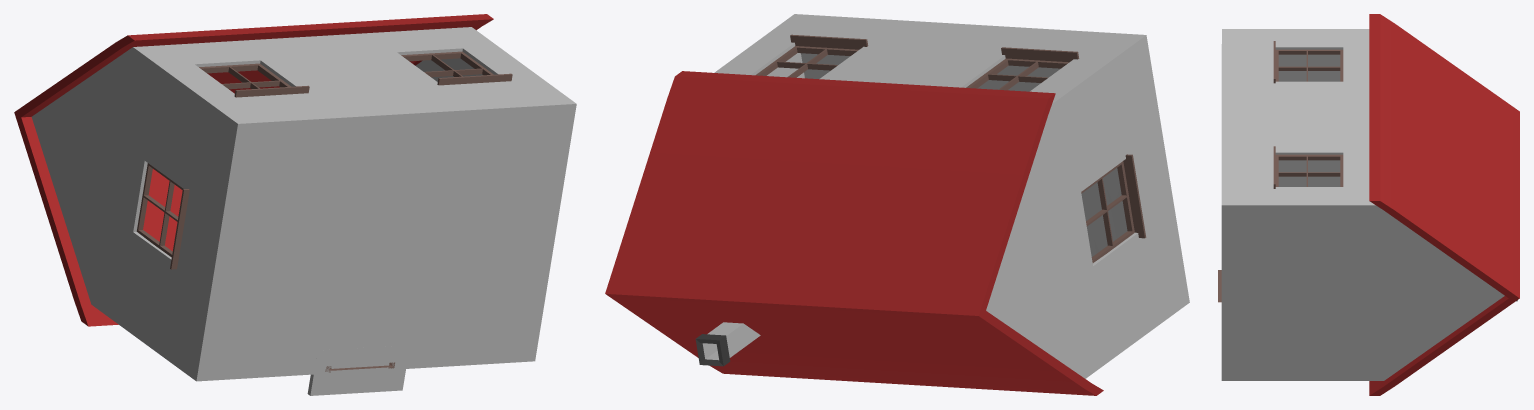
The model's file is ghar House.fbx.
3 renders of one model, left to right at view 1: azimuth 30°, elevation 25°; view 2: azimuth 150°, elevation 25°; view 3: azimuth 270°, elevation 25°, orthographic. The views are drawn at different scales.
Parts seen in each view (by area): view 1: imagetostl_mesh0, imagetostl_mesh1, imagetostl_mesh42, imagetostl_mesh45, imagetostl_mesh22, imagetostl_mesh29; view 2: imagetostl_mesh1, imagetostl_mesh0, imagetostl_mesh2, imagetostl_mesh45, imagetostl_mesh29, imagetostl_mesh22, imagetostl_mesh3; view 3: imagetostl_mesh0, imagetostl_mesh1, imagetostl_mesh20, imagetostl_mesh27, imagetostl_mesh31, imagetostl_mesh24.
Part boxes in pixels (x1=…): imagetostl_mesh0: x1=31, y1=27, x2=576, y2=381; imagetostl_mesh1: x1=14, y1=14, x2=493, y2=326; imagetostl_mesh42: x1=307, y1=345, x2=409, y2=395; imagetostl_mesh45: x1=170, y1=189, x2=189, y2=269; imagetostl_mesh22: x1=437, y1=73, x2=512, y2=85; imagetostl_mesh29: x1=234, y1=85, x2=309, y2=97; imagetostl_mesh1: x1=605, y1=71, x2=1103, y2=395; imagetostl_mesh0: x1=714, y1=14, x2=1189, y2=378; imagetostl_mesh2: x1=702, y1=322, x2=760, y2=360; imagetostl_mesh45: x1=1123, y1=154, x2=1146, y2=238; imagetostl_mesh29: x1=1001, y1=47, x2=1079, y2=62; imagetostl_mesh22: x1=790, y1=34, x2=868, y2=49; imagetostl_mesh3: x1=695, y1=334, x2=730, y2=366; imagetostl_mesh0: x1=1221, y1=29, x2=1504, y2=380; imagetostl_mesh1: x1=1369, y1=14, x2=1519, y2=395; imagetostl_mesh20: x1=1275, y1=154, x2=1343, y2=160; imagetostl_mesh27: x1=1278, y1=49, x2=1340, y2=54; imagetostl_mesh31: x1=1275, y1=66, x2=1343, y2=70; imagetostl_mesh24: x1=1275, y1=172, x2=1343, y2=176.
Bounding box in the file's own units: 11705 × 9402 × 9747.
